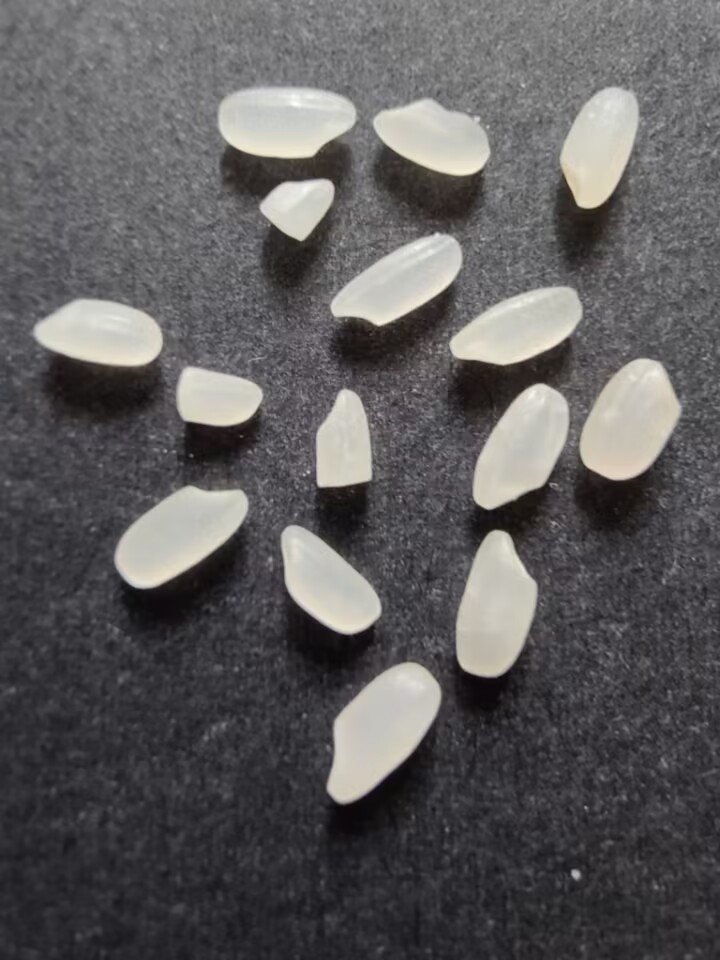broken: (309, 387, 377, 491), (171, 361, 268, 431), (253, 176, 337, 245)
rice: (321, 660, 447, 806), (110, 480, 256, 592), (451, 525, 543, 682), (325, 230, 468, 328), (576, 355, 683, 484), (471, 380, 573, 513), (273, 524, 386, 636), (441, 285, 586, 366), (210, 85, 363, 160), (557, 82, 641, 212), (365, 96, 492, 181), (29, 295, 164, 369)
